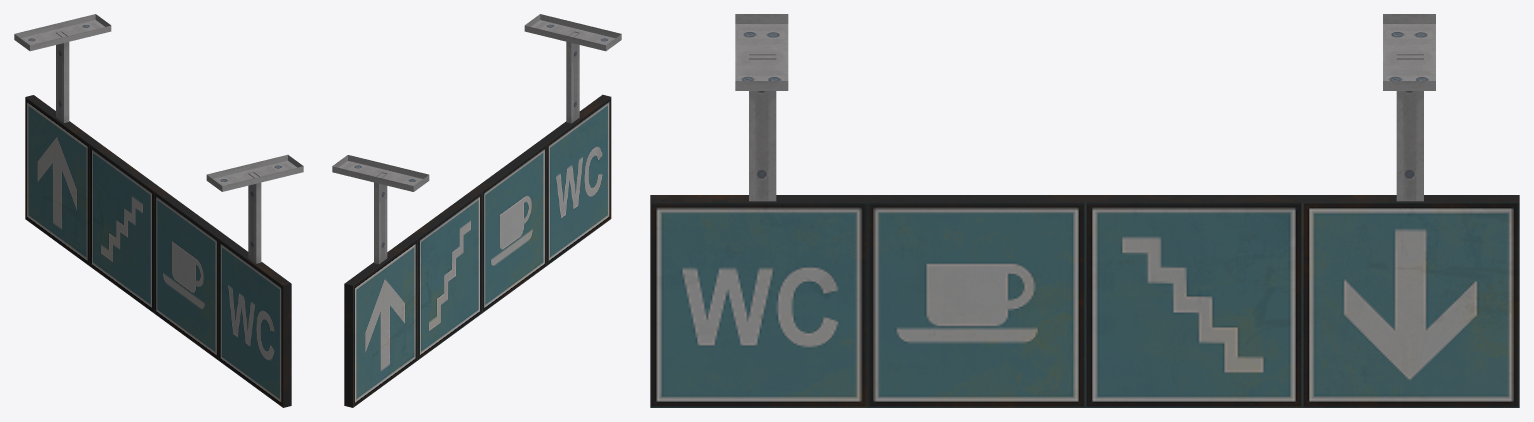
The model's file is HH_Navigation_Sign_02.fbx.
3 renders of one model, left to right at view 1: azimuth 30°, elevation 25°; view 2: azimuth 150°, elevation 25°; view 3: azimuth 270°, elevation 25°, orthographic. The views are drawn at different scales.
Parts seen in each view (by area): view 1: HH_Navigation_Sign_02; view 2: HH_Navigation_Sign_02; view 3: HH_Navigation_Sign_02.
Part boxes in pixels (x1,y1,x2,y2): HH_Navigation_Sign_02: [14, 14, 303, 407]; HH_Navigation_Sign_02: [332, 14, 621, 407]; HH_Navigation_Sign_02: [650, 14, 1519, 407].
Bounding box in the file's own units: 31.11 × 77.4 × 171.
